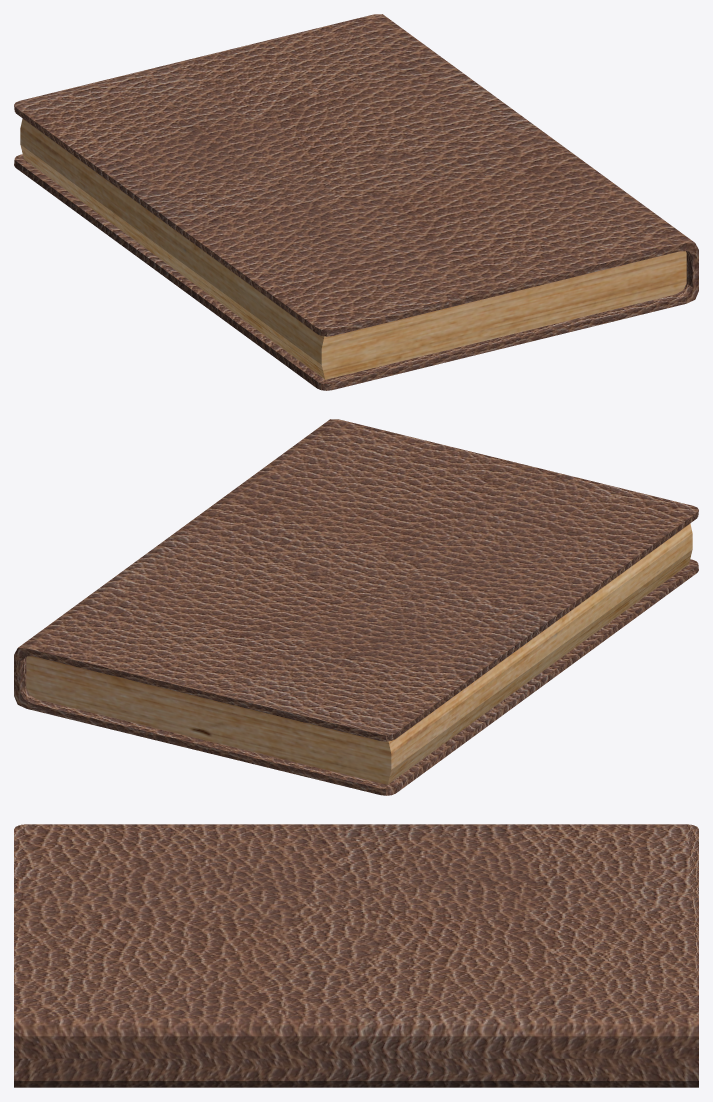
The model's file is book.dae.
3 renders of one model, top to bottom at view 1: azimuth 30°, elevation 25°; view 2: azimuth 150°, elevation 25°; view 3: azimuth 270°, elevation 25°, orthographic. The views are drawn at different scales.
Visible parts, largest first — view 1: Plane_004_Plane_000; view 2: Plane_004_Plane_000; view 3: Plane_004_Plane_000.
Part boxes in pixels (bbox=[...]): Plane_004_Plane_000: bbox=[14, 14, 698, 390]; Plane_004_Plane_000: bbox=[14, 419, 698, 795]; Plane_004_Plane_000: bbox=[14, 824, 698, 1087].
Size of the model in its own units: 1.23 by 1.76 by 0.1883.
Materials: 1 (1 with a texture image).
